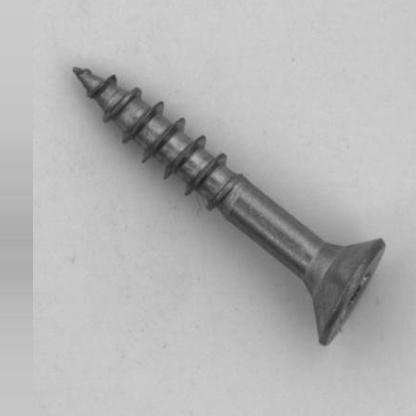metal: (71, 65, 386, 345)
